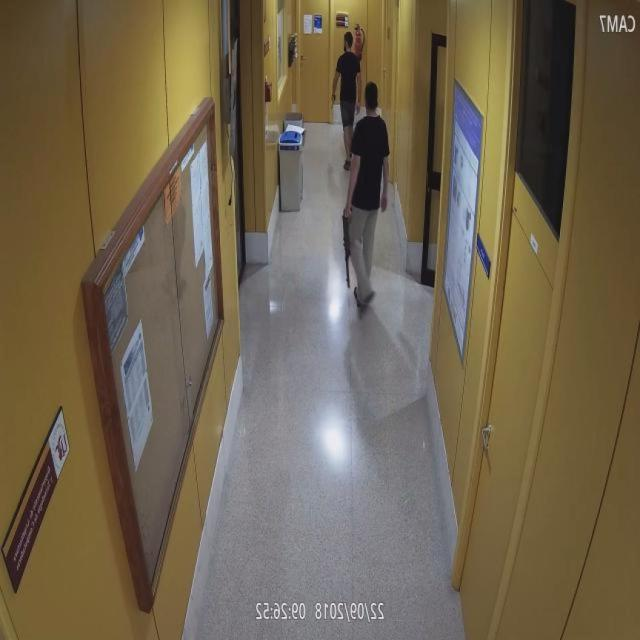pistol: (329, 92, 338, 111)
